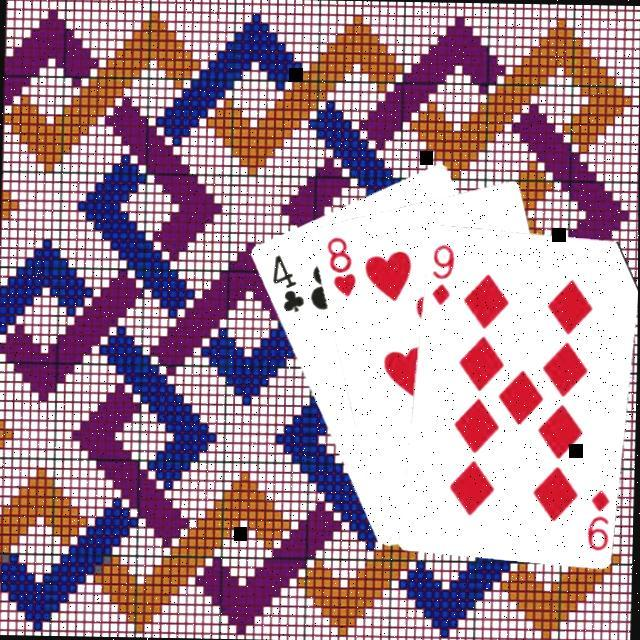4C: (269, 252, 310, 317)
8H: (323, 234, 361, 302)
9D: (430, 242, 459, 309), (585, 488, 614, 555)
